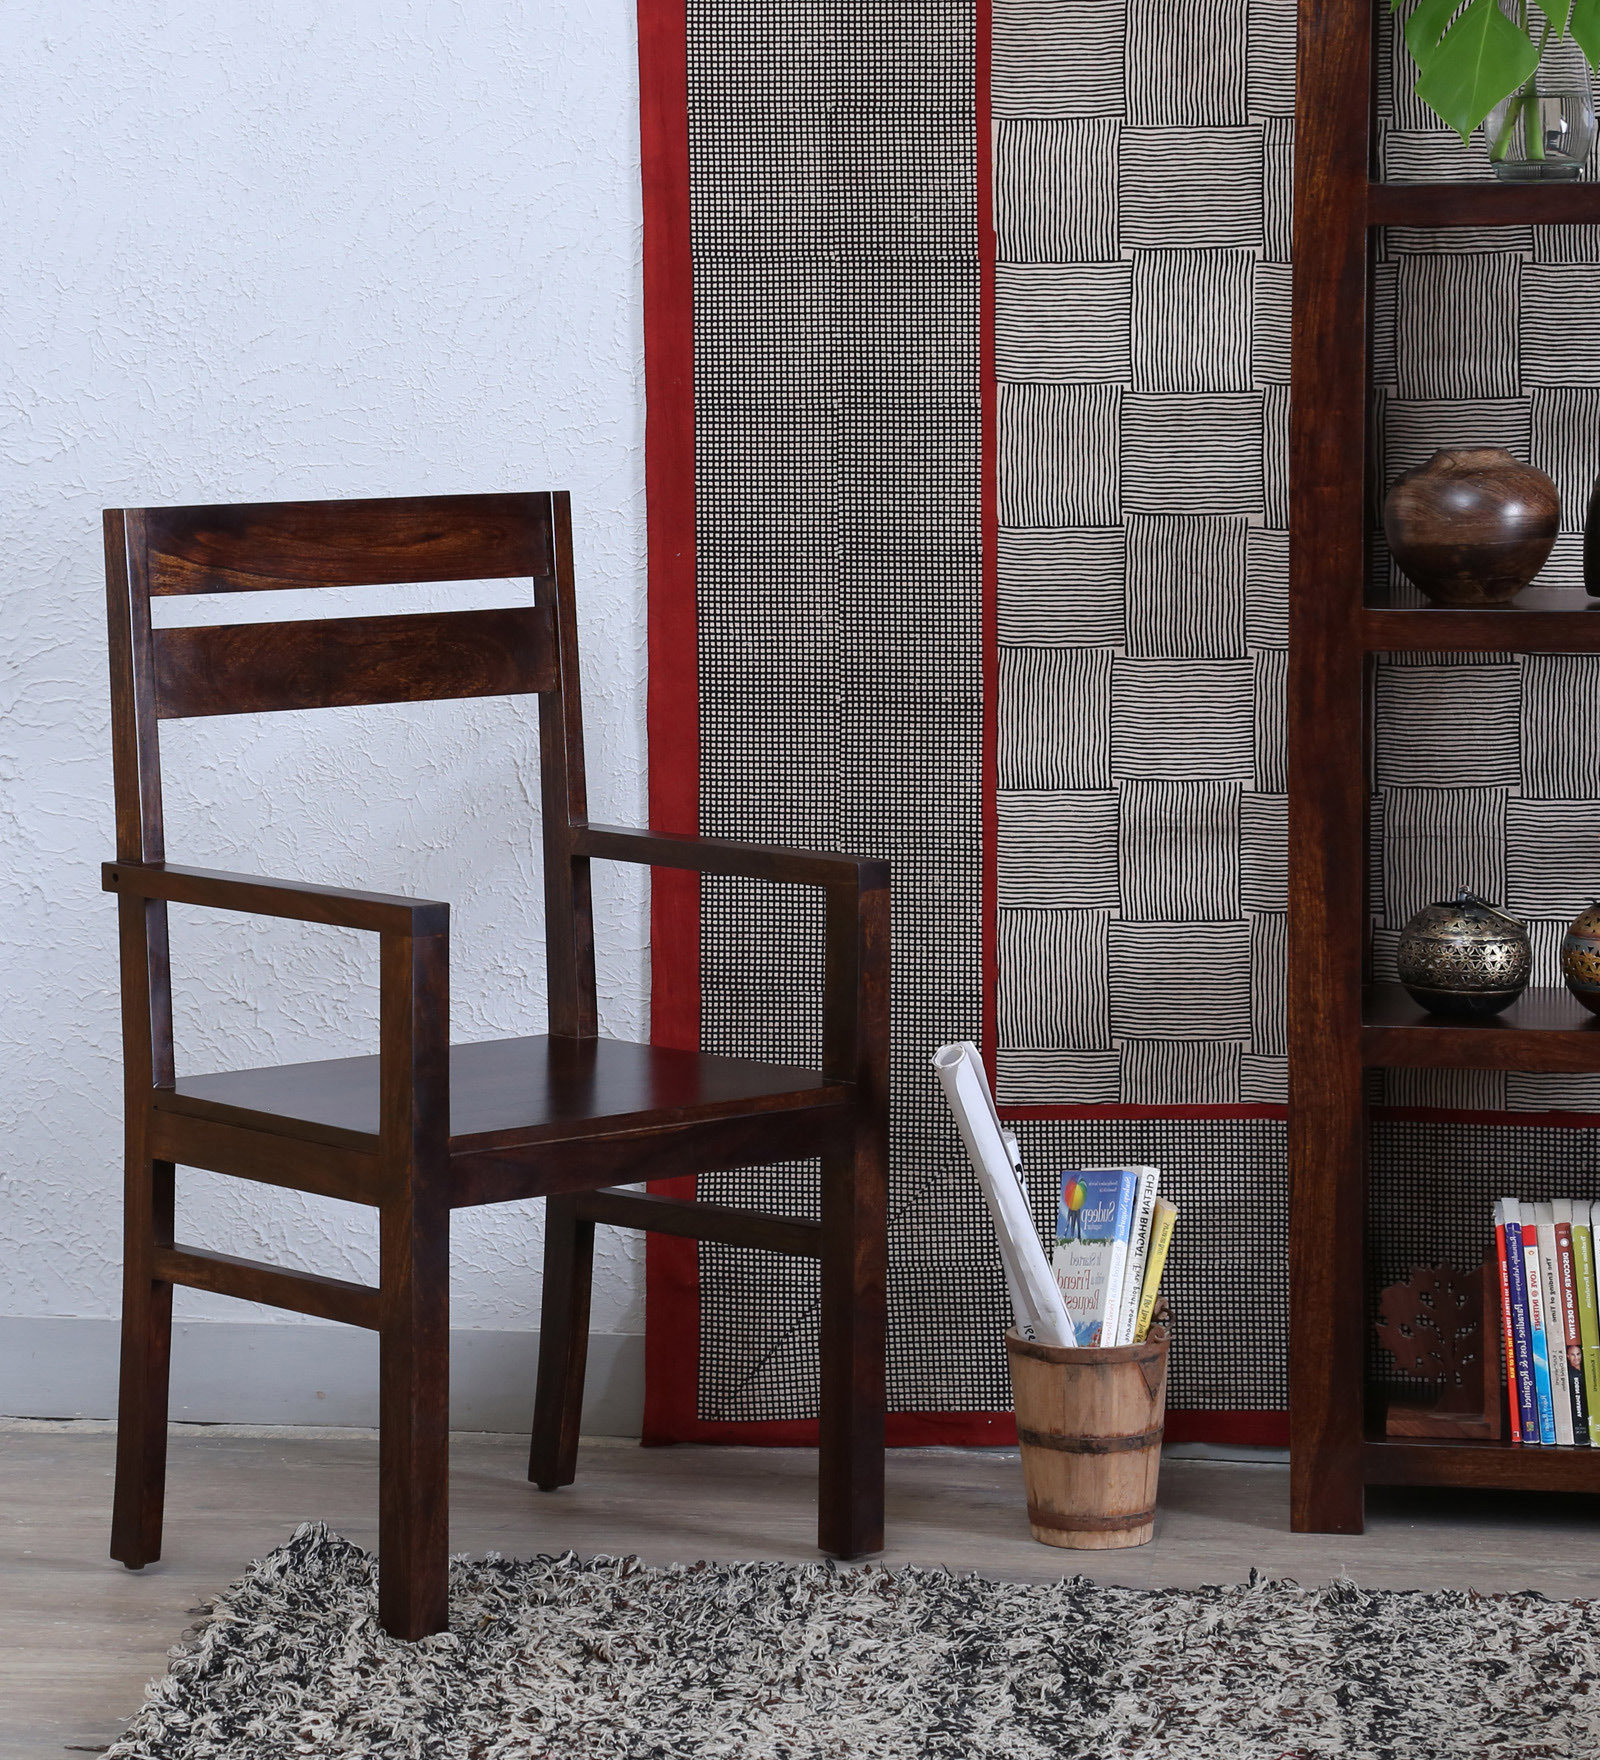Enkel Arm Chair in Provincial Teak Finish by Woodsworth: (77, 471, 930, 1670)
